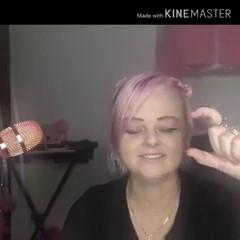C: (178, 101, 237, 177)
